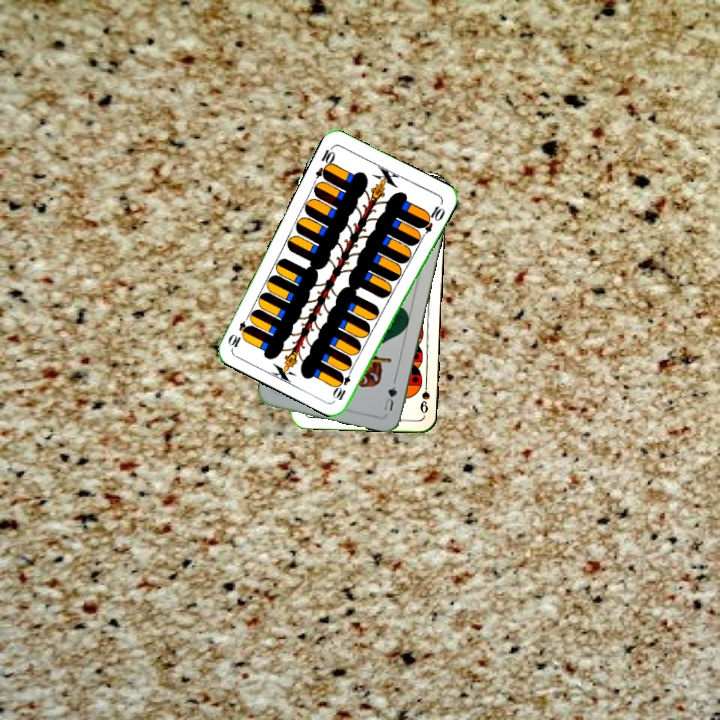E10: (311, 143, 338, 183), (331, 364, 355, 403)
GU: (380, 382, 400, 413)
S9: (414, 376, 432, 416)
